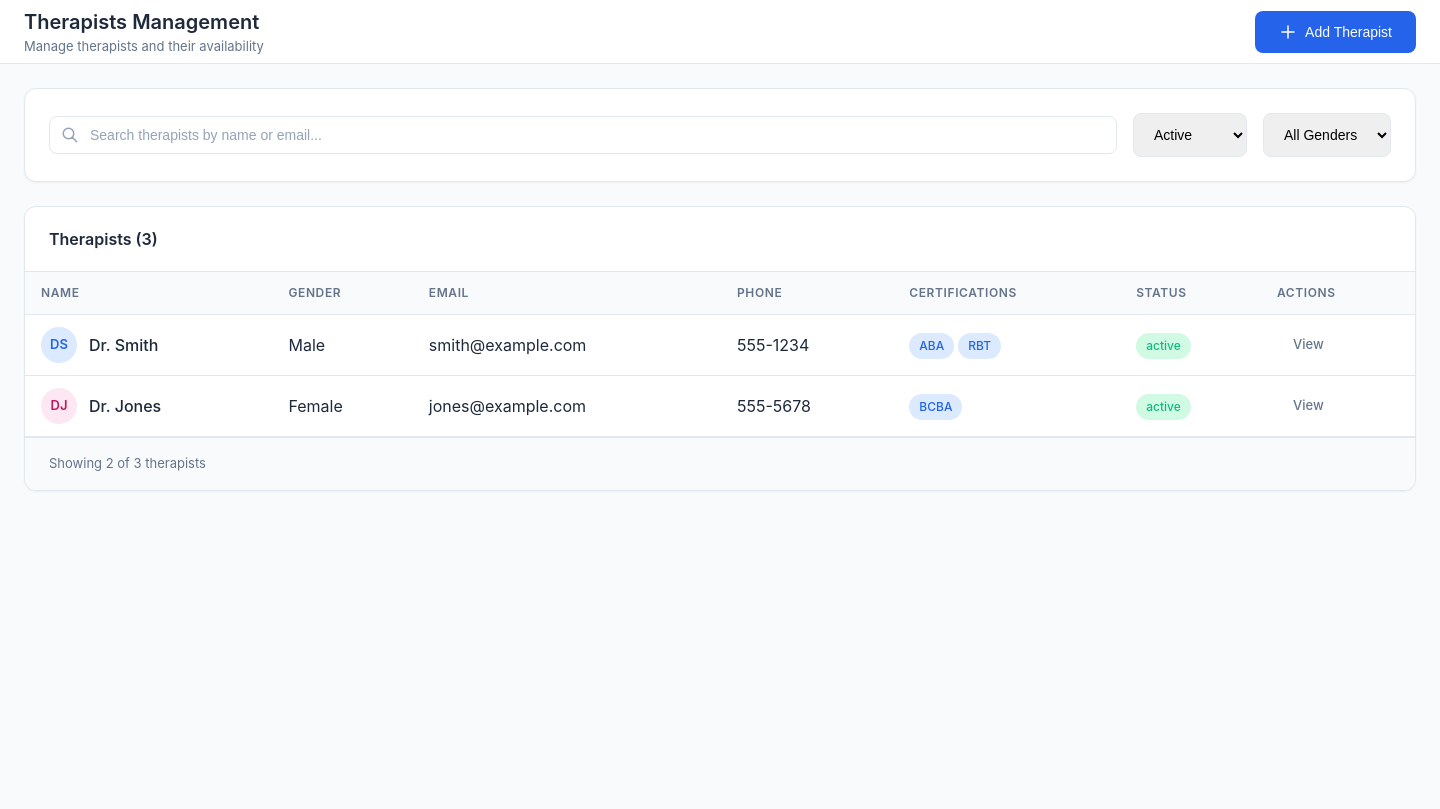
Scenario: StaffListPage › add staff modal › should open add modal when add button clicked
This screenshot has width=1440, height=809.
Click the button "Add Therapist": (1336, 32) [1255,10,1416,52]
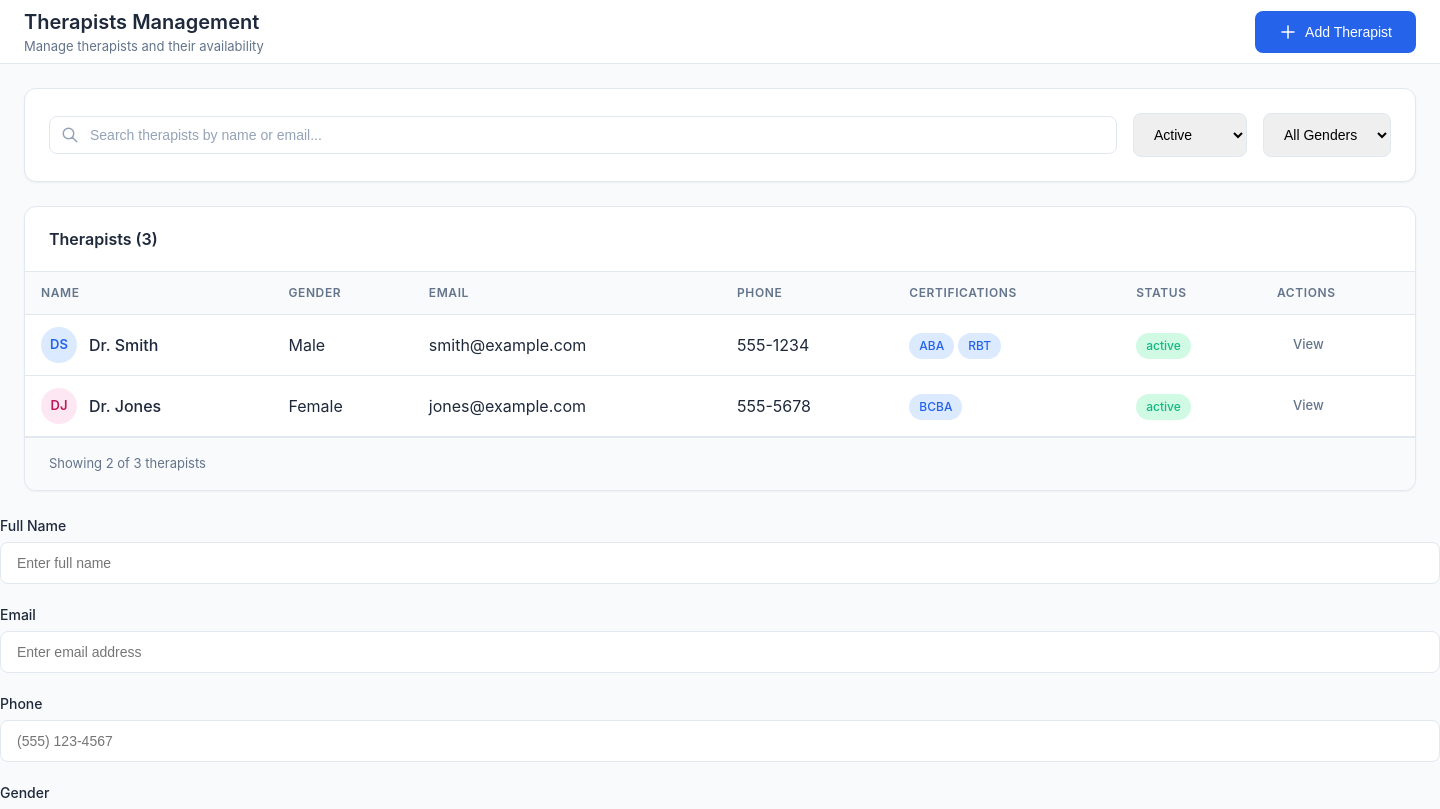
Now the field with id "name" is shown, box [0,542,1439,584]
